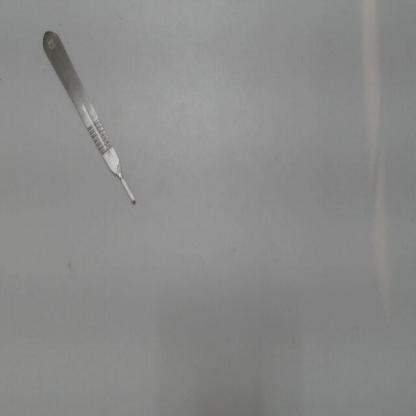No.3 BP Handle: (26, 8, 154, 224)
